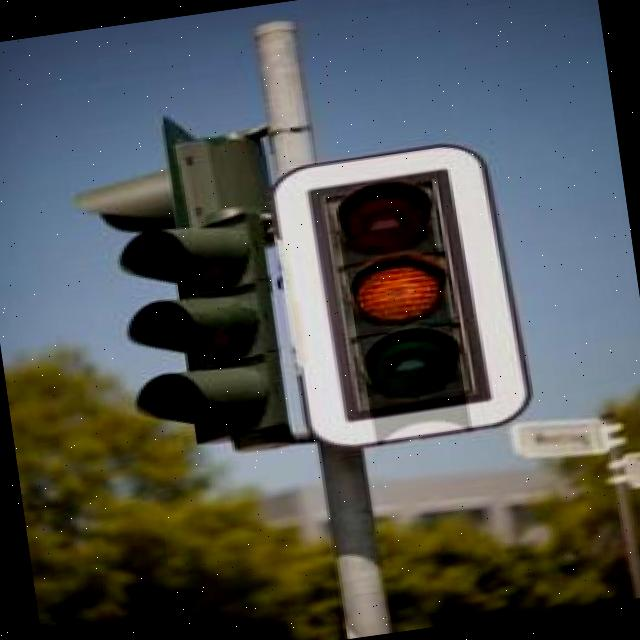yellow_light: (308, 170, 490, 422)
